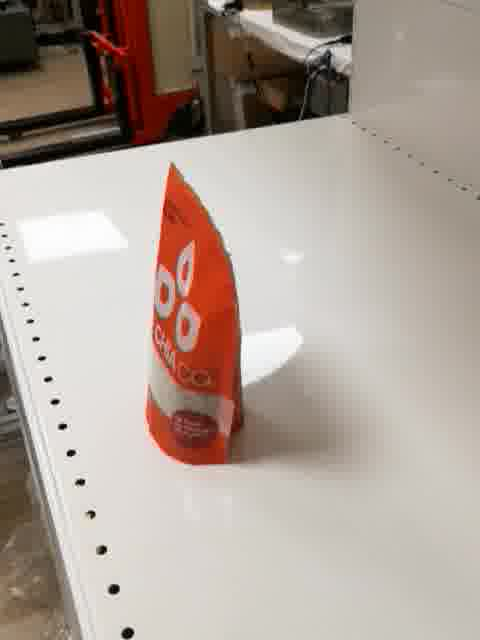whitechia: (142, 160, 251, 469)
